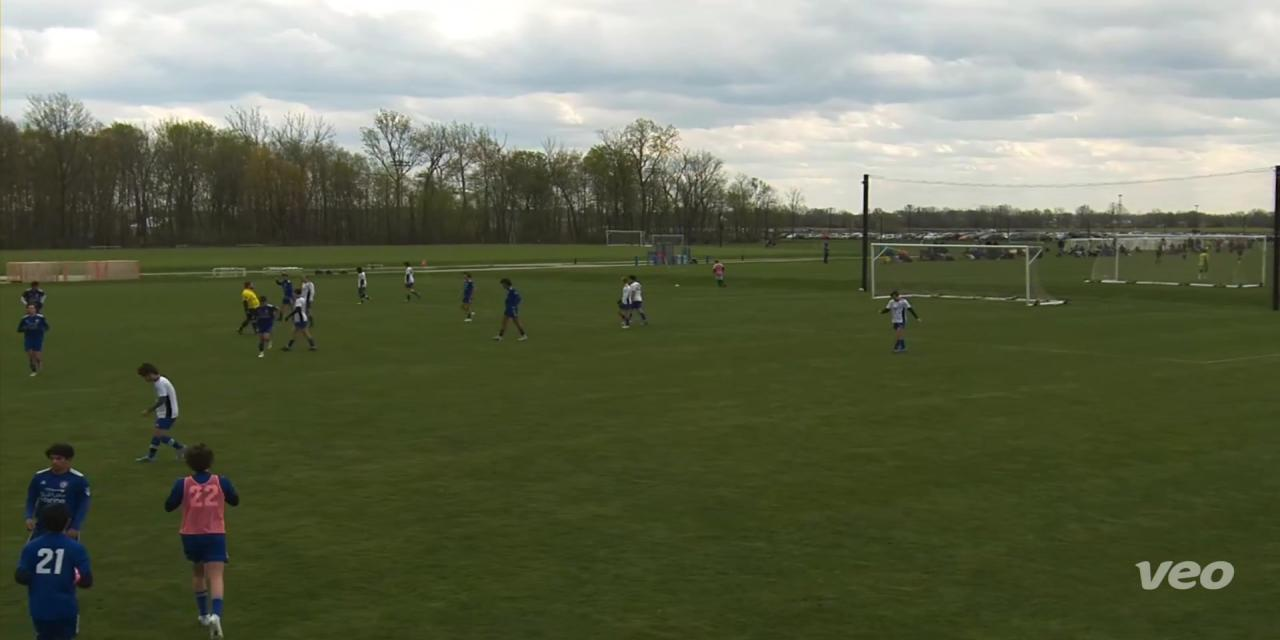goal: (864, 235, 1080, 317)
sports ball: (668, 277, 687, 293)
